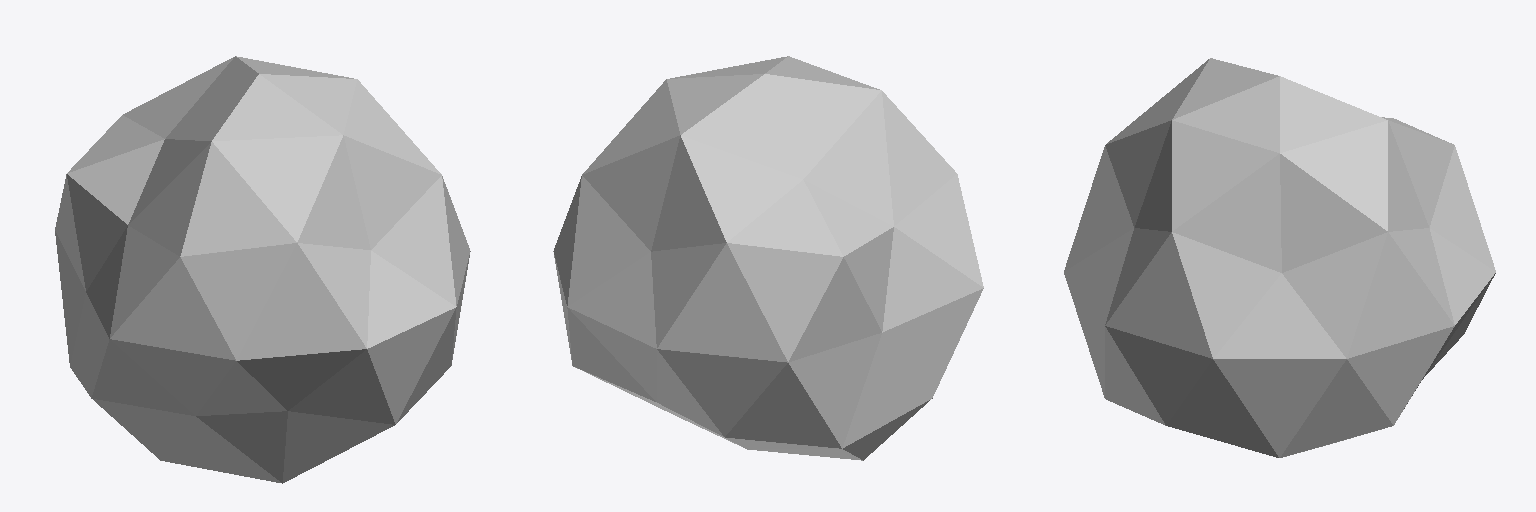
Rendered from FakeAsteroid.obj.
3 views of the same model, side by side, from view 1: azimuth 30°, elevation 25°; view 2: azimuth 150°, elevation 25°; view 3: azimuth 270°, elevation 25° (orthographic).
Parts seen in each view (by area): view 1: Icosphere; view 2: Icosphere; view 3: Icosphere.
Boxes of the visible parts, <box> form: Icosphere: <box>55,56,470,483</box>; Icosphere: <box>553,56,983,460</box>; Icosphere: <box>1064,58,1495,457</box>.
Bounding box in the file's own units: 1.68 × 1.61 × 1.74.